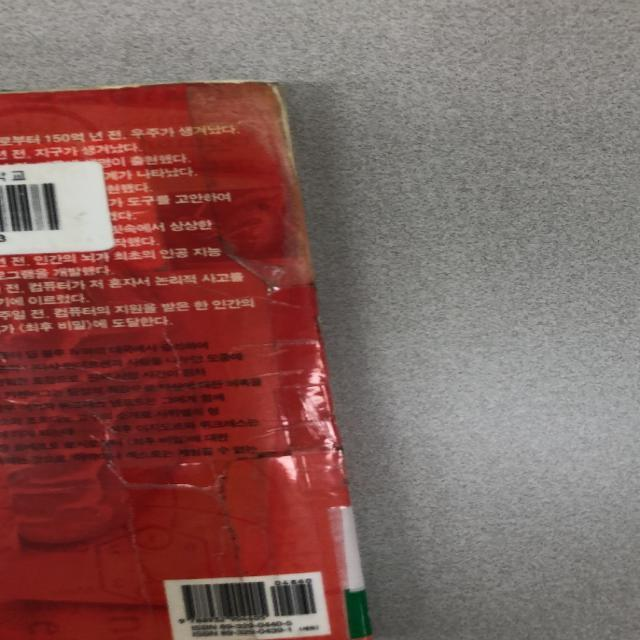Wornout: (266, 87, 303, 179), (0, 81, 165, 97), (165, 77, 283, 87)
